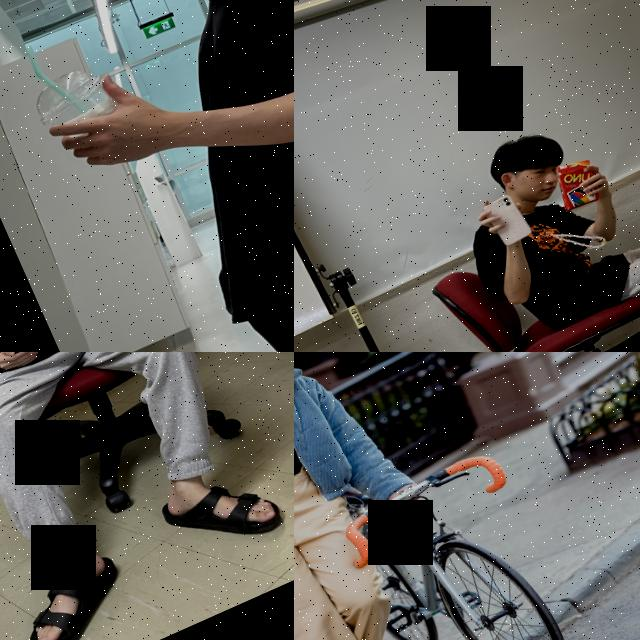cup: (22, 52, 136, 154)
